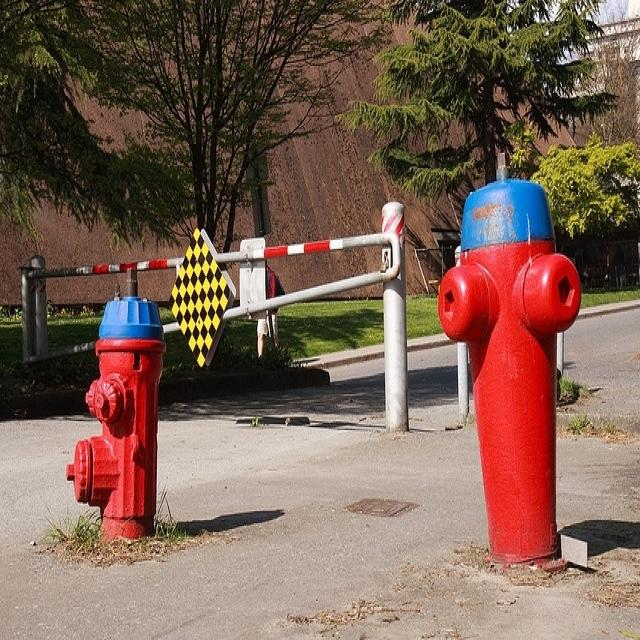fire_hydrant: (406, 153, 621, 602), (62, 243, 203, 593)
